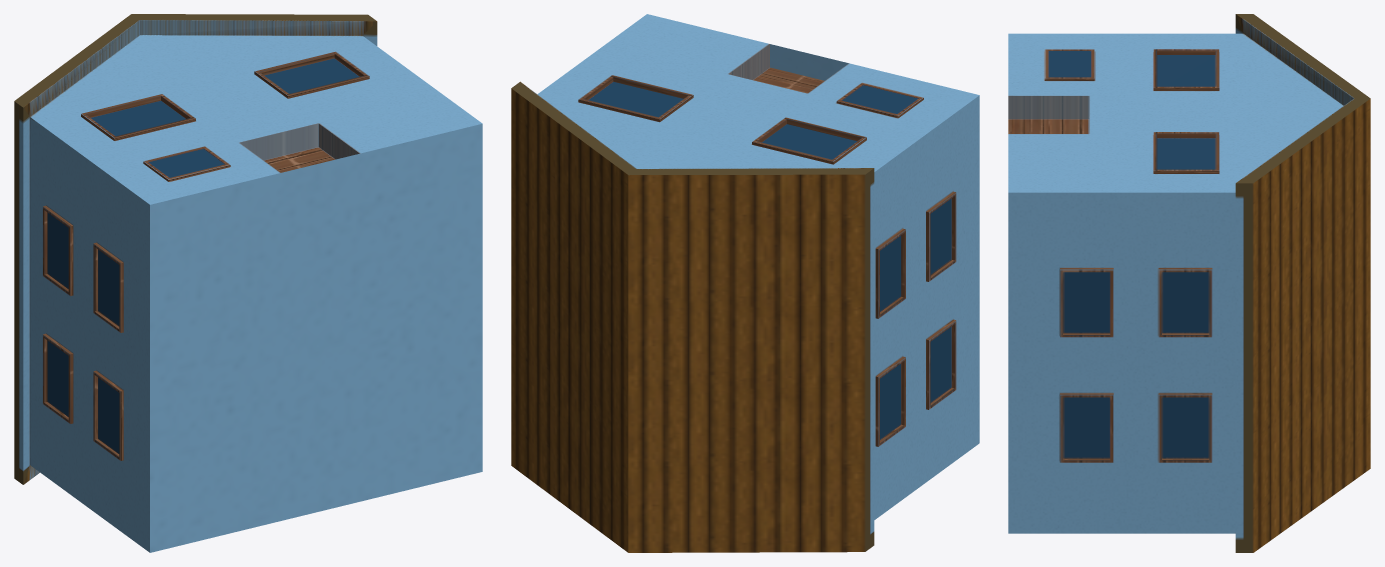
File: house-05.obj
3 views of the same model, side by side, from view 1: azimuth 30°, elevation 25°; view 2: azimuth 150°, elevation 25°; view 3: azimuth 270°, elevation 25° (orthographic). The views are drawn at different scales.
Parts seen in each view (by area): view 1: house-05_Cube.059; view 2: house-05_Cube.059; view 3: house-05_Cube.059.
Part boxes in pixels (x1,y1,x2,y2): house-05_Cube.059: (14, 14, 482, 552); house-05_Cube.059: (511, 14, 979, 552); house-05_Cube.059: (1008, 14, 1370, 552).
Bounding box in the file's own units: 4.19 × 4.27 × 3.79.
